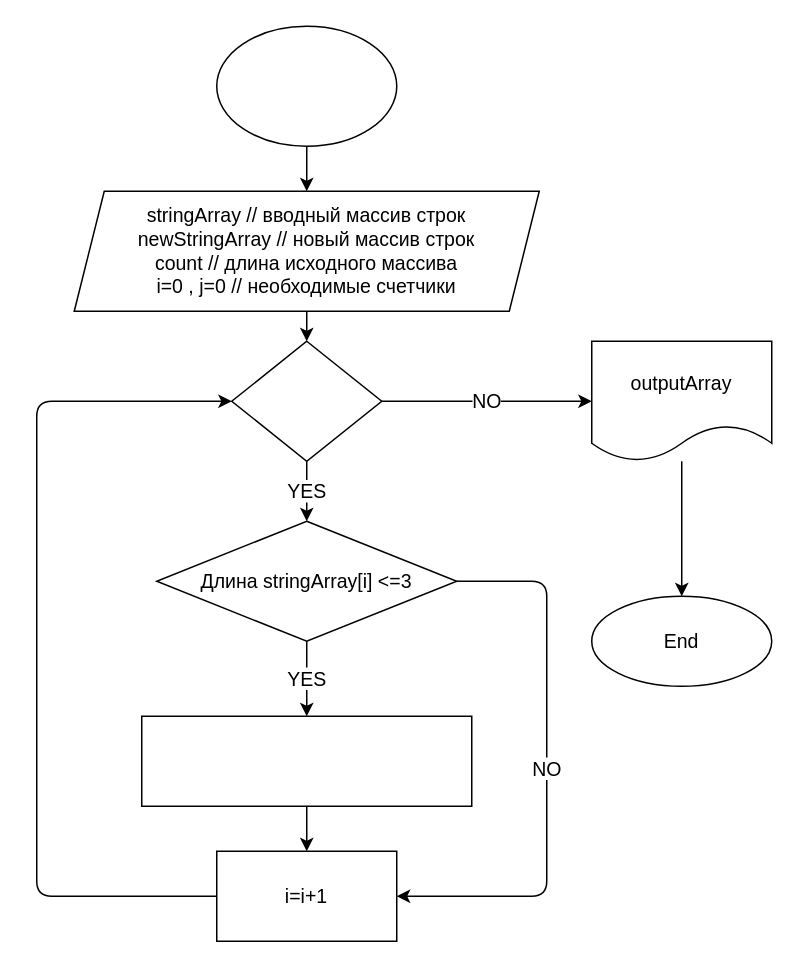
Some shapes in this 798 by 968 pixel diagram are drawn without their labels. The centre of each missing label's shape, as x and y in pixels:
i<count: the point at 306,400
newStringArray[j] =stringArray[i] j = j+1: the point at 306,760
Start: the point at 306,85
